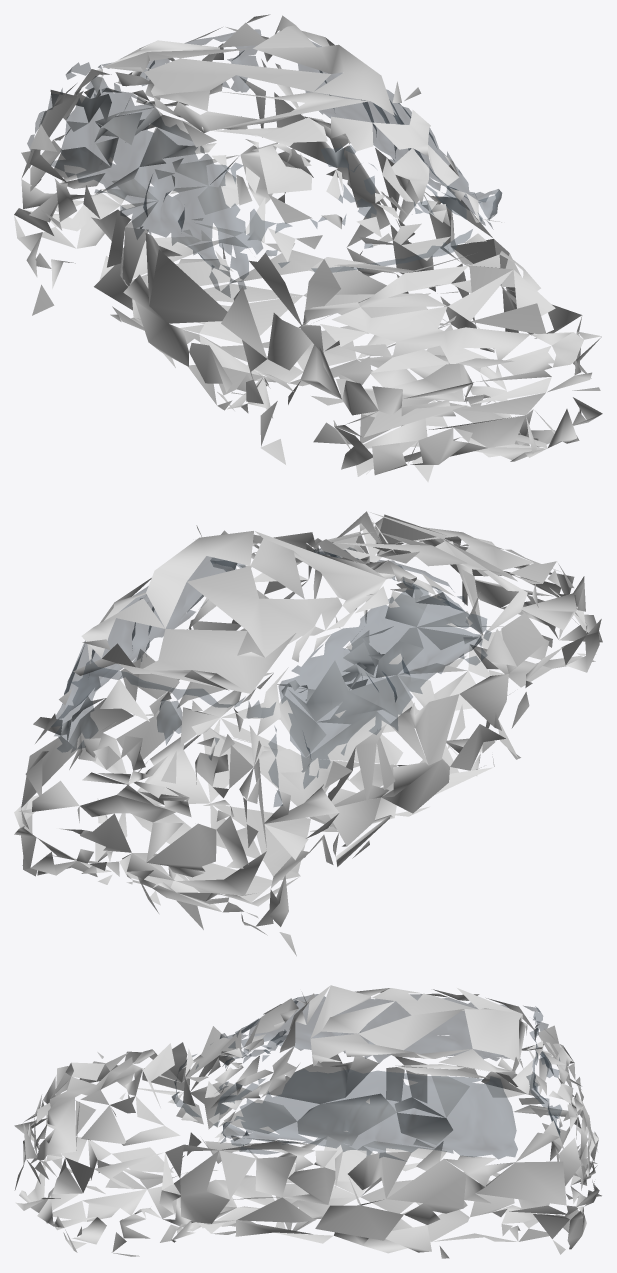
The model's file is maruti_green_lod.glb.
The picture shows the model from 3 angles, top to bottom: view 1: azimuth 30°, elevation 25°; view 2: azimuth 150°, elevation 25°; view 3: azimuth 270°, elevation 25°; orthographic projection. The views are drawn at different scales.
Visible parts, largest first — view 1: maruti_green, glass; view 2: maruti_green, glass; view 3: maruti_green, glass.
Boxes of the visible parts, x1=… form: maruti_green: x1=14, y1=14, x2=602, y2=482; glass: x1=27, y1=29, x2=501, y2=297; maruti_green: x1=14, y1=511, x2=602, y2=956; glass: x1=51, y1=547, x2=491, y2=806; maruti_green: x1=14, y1=985, x2=601, y2=1258; glass: x1=172, y1=994, x2=561, y2=1161.
Bounding box in the file's own units: 1.52 × 1.38 × 3.35.
